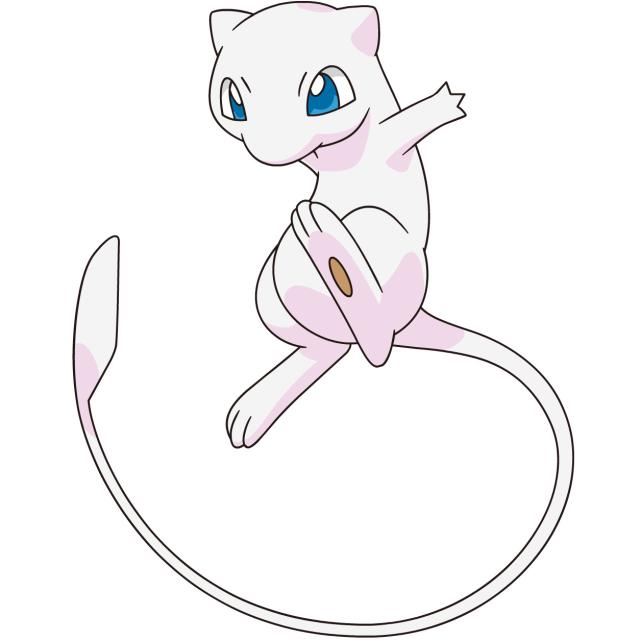Mew: (217, 0, 453, 345)
